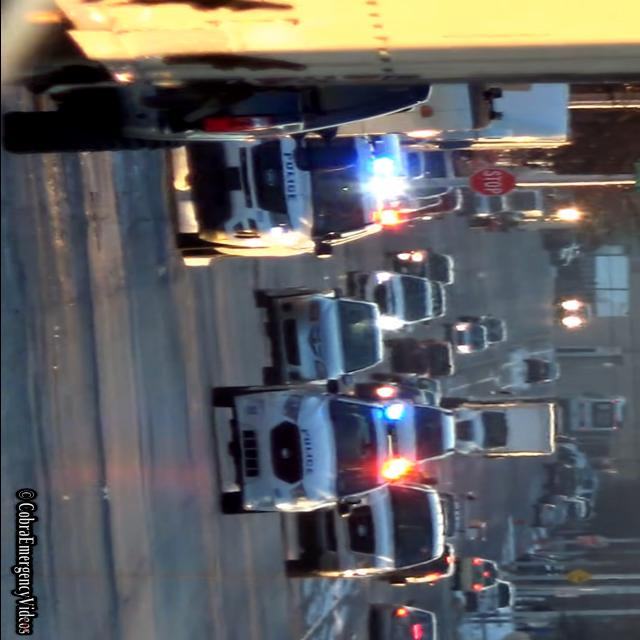emergency-vehicles: (174, 86, 414, 284), (202, 373, 414, 522)
